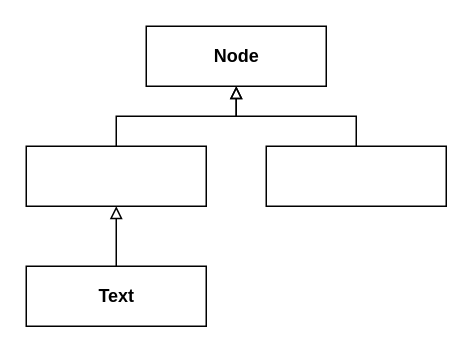
Image size: 473x353. Some labels were removed from this diagram. Here are the shapes that lost their labels. From the top down, the centre of each, then its label:
At [115,175]: "CharacterData".
At [355,175]: "Element".
